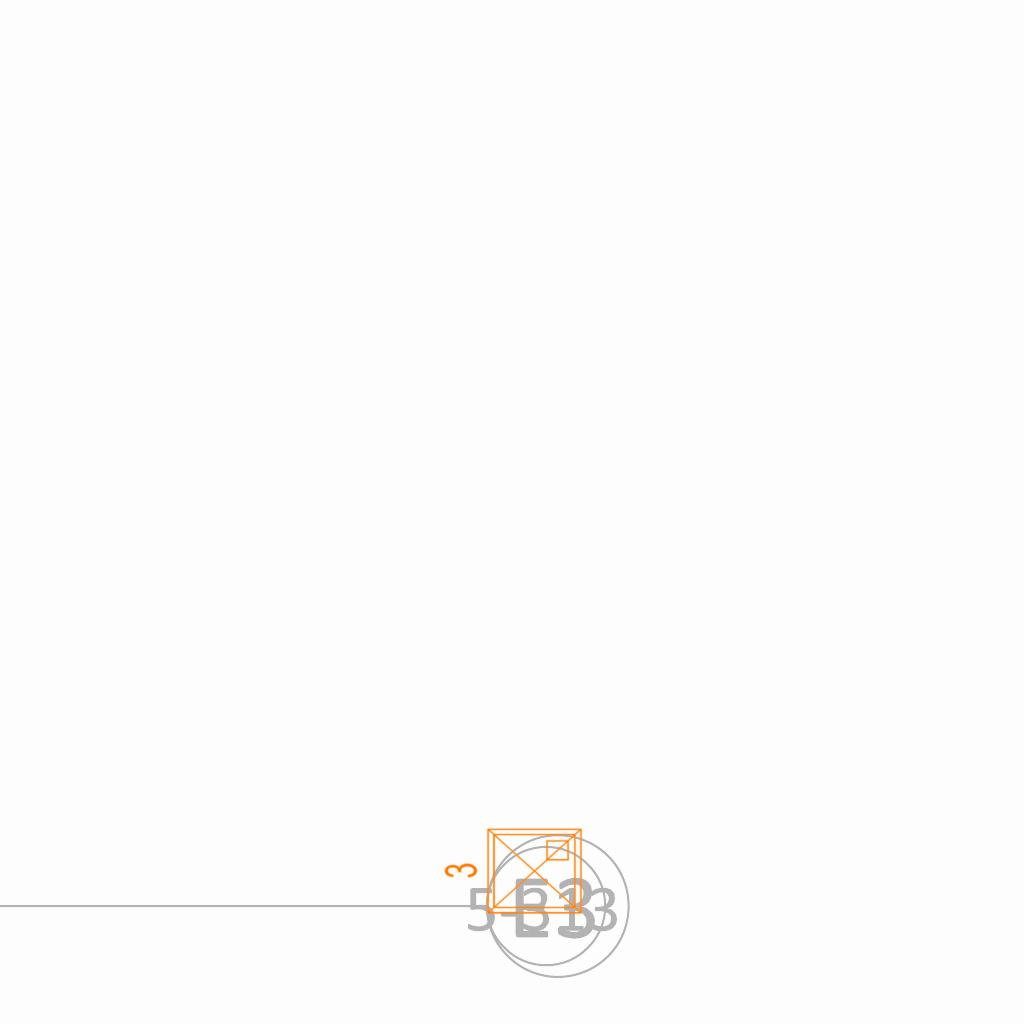Einbaudownlights_LED_Konferenzraeume: (439, 821, 589, 925)
